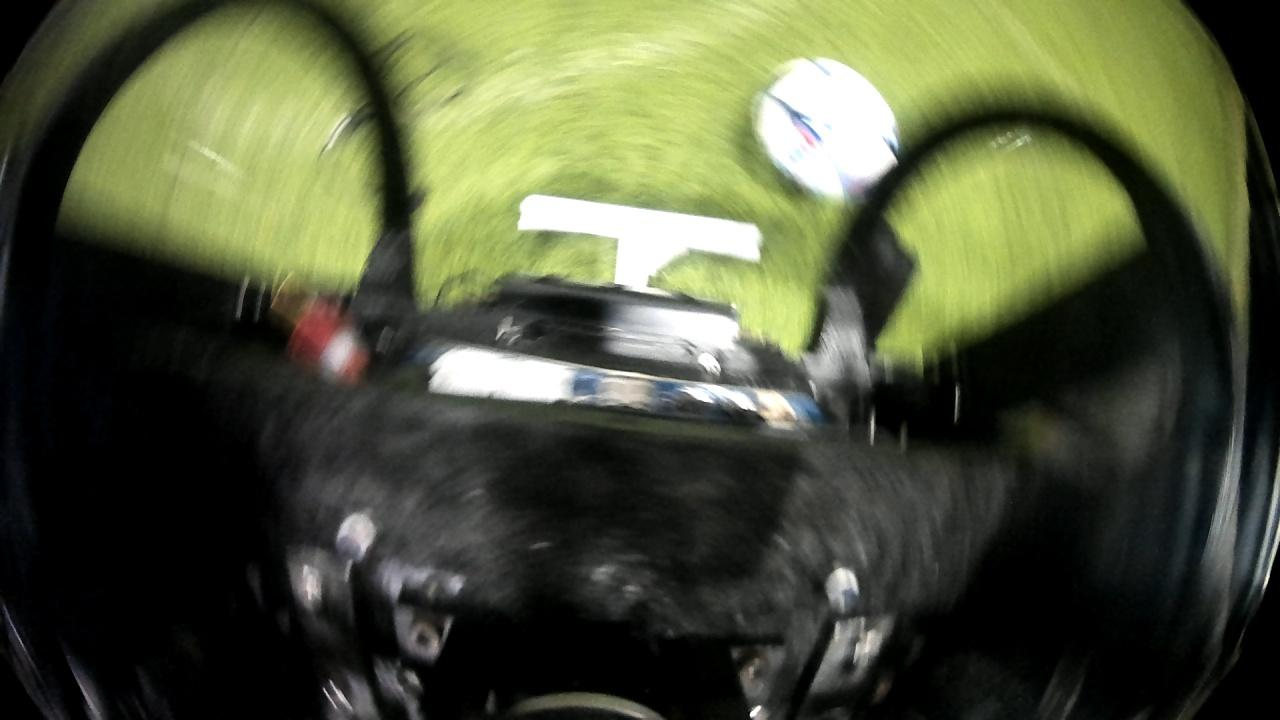ball: (754, 56, 910, 202)
